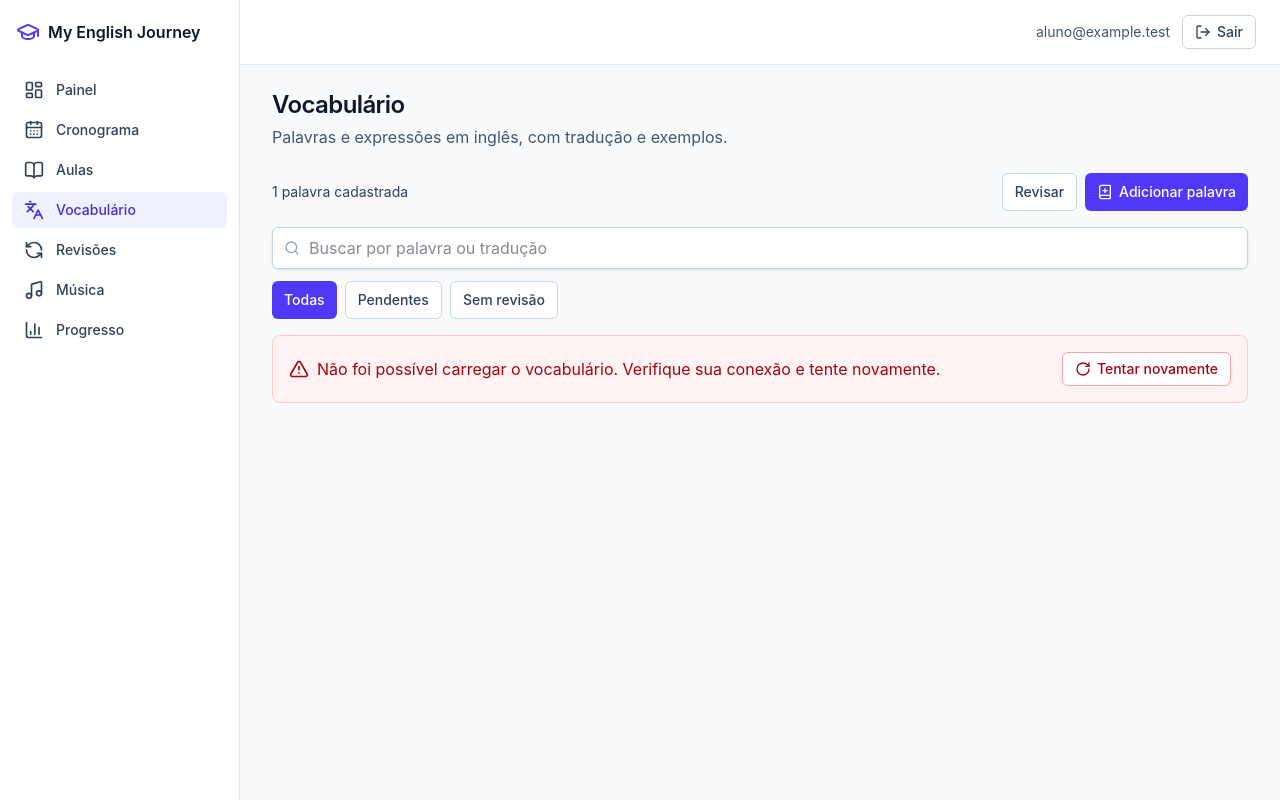
/vocabulary › 4. erro de consulta mostra erro (não estado vazio) e permite tentar de novo
Expected: the text "Não foi possível carregar o vocabulário" is shown, [317,359,940,379]
Click the button "Tentar novamente". click: [1146, 369]
box: [1062,352,1231,386]
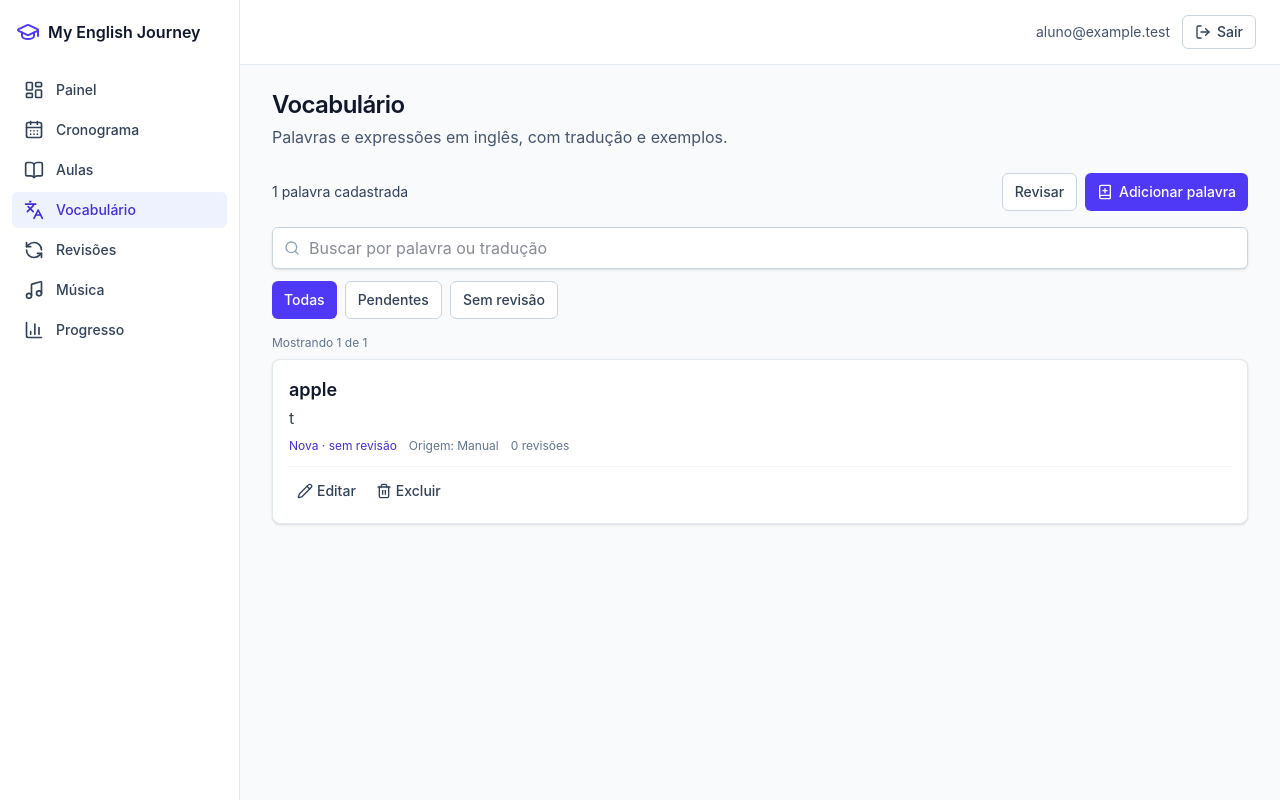
Result: the heading "apple" is shown at [289,376,337,404]
